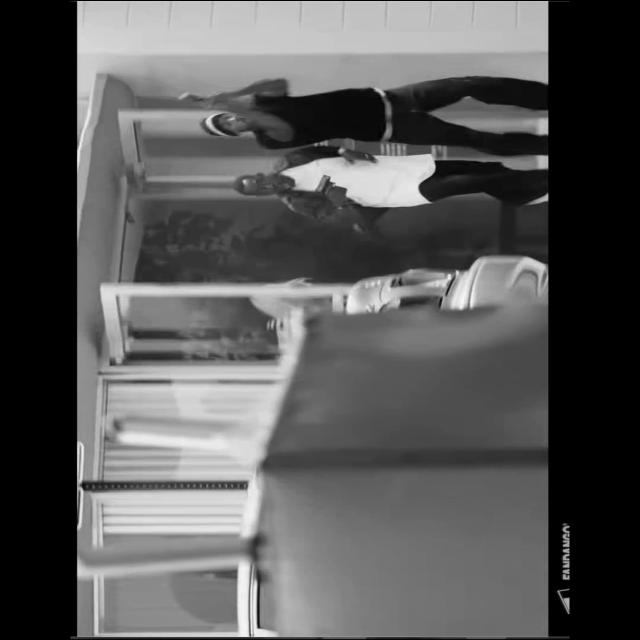weapons: (156, 85, 240, 111), (304, 170, 364, 202)
